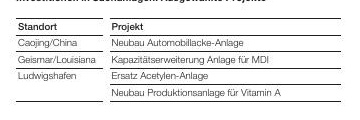table: (0, 0, 360, 120)
